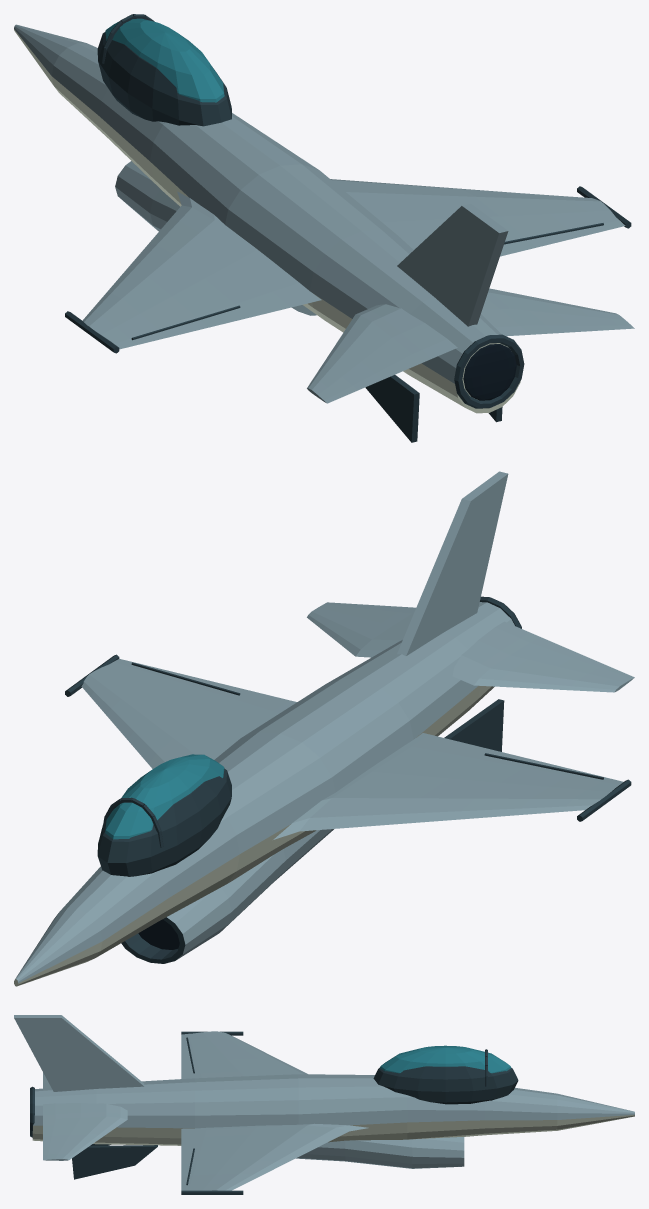
The model's file is archive-f16a.glb.
3 views of the same model, one above another, from view 1: azimuth 30°, elevation 25°; view 2: azimuth 150°, elevation 25°; view 3: azimuth 270°, elevation 25° (orthographic). The views are drawn at different scales.
Parts seen in each view (by area): view 1: archive-f16a-fuselage.008-geometry, archive-f16a-wing_0_-1.008-geometry, archive-f16a-archive-f16a-geometry, archive-f16a-wing_0_1.008-geometry, archive-f16a-tailplane.016-geometry, archive-f16a-vertical_tail.008-geometry, archive-f16a-tailplane.017-geometry, archive-f16a-intake_0-geometry; view 2: archive-f16a-fuselage.008-geometry, archive-f16a-wing_0_-1.008-geometry, archive-f16a-archive-f16a-geometry, archive-f16a-wing_0_1.008-geometry, archive-f16a-vertical_tail.008-geometry, archive-f16a-tailplane.016-geometry, archive-f16a-intake_0-geometry, archive-f16a-tailplane.017-geometry; view 3: archive-f16a-fuselage.008-geometry, archive-f16a-archive-f16a-geometry, archive-f16a-wing_0_1.008-geometry, archive-f16a-vertical_tail.008-geometry, archive-f16a-intake_0-geometry, archive-f16a-wing_0_-1.008-geometry, archive-f16a-tailplane.017-geometry.
Part boxes in pixels (x1,y1,x2,y2): archive-f16a-fuselage.008-geometry: [14, 24, 520, 413]; archive-f16a-wing_0_-1.008-geometry: [82, 191, 321, 349]; archive-f16a-archive-f16a-geometry: [65, 14, 631, 442]; archive-f16a-wing_0_1.008-geometry: [330, 179, 625, 256]; archive-f16a-tailplane.016-geometry: [307, 304, 457, 403]; archive-f16a-vertical_tail.008-geometry: [397, 203, 508, 326]; archive-f16a-tailplane.017-geometry: [481, 288, 634, 336]; archive-f16a-intake_0-geometry: [115, 161, 316, 315]; archive-f16a-fuselage.008-geometry: [14, 602, 514, 986]; archive-f16a-wing_0_-1.008-geometry: [273, 733, 623, 839]; archive-f16a-archive-f16a-geometry: [65, 596, 631, 876]; archive-f16a-wing_0_1.008-geometry: [81, 659, 296, 768]; archive-f16a-vertical_tail.008-geometry: [397, 471, 508, 655]; archive-f16a-tailplane.016-geometry: [452, 621, 634, 692]; archive-f16a-intake_0-geometry: [121, 829, 333, 963]; archive-f16a-tailplane.017-geometry: [307, 602, 415, 657]; archive-f16a-fuselage.008-geometry: [32, 1074, 634, 1145]; archive-f16a-archive-f16a-geometry: [30, 1031, 518, 1194]; archive-f16a-wing_0_1.008-geometry: [181, 1123, 368, 1190]; archive-f16a-vertical_tail.008-geometry: [14, 1015, 144, 1091]; archive-f16a-intake_0-geometry: [296, 1137, 464, 1168]; archive-f16a-wing_0_-1.008-geometry: [181, 1031, 307, 1078]; archive-f16a-tailplane.017-geometry: [43, 1103, 127, 1160].
Bounding box in the file's own units: 3.68 × 1.59 × 6.
